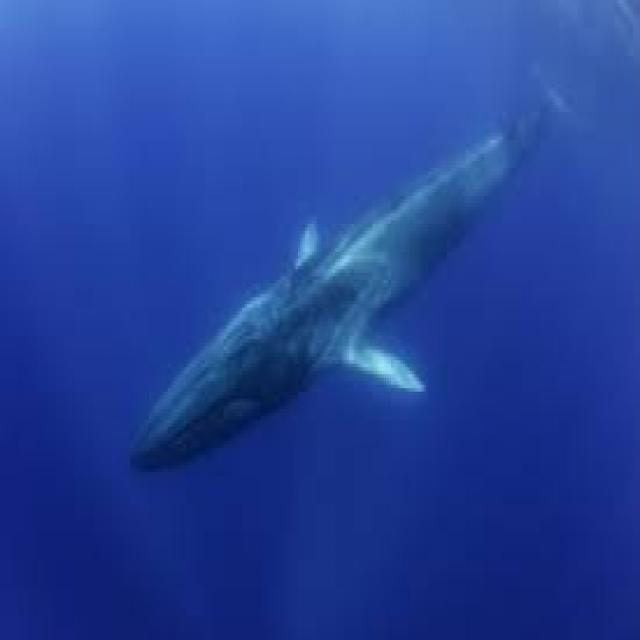blue_whale: (114, 63, 556, 612)
